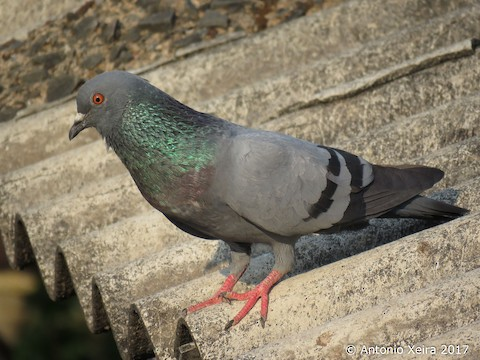pigeon: (64, 64, 473, 331)
